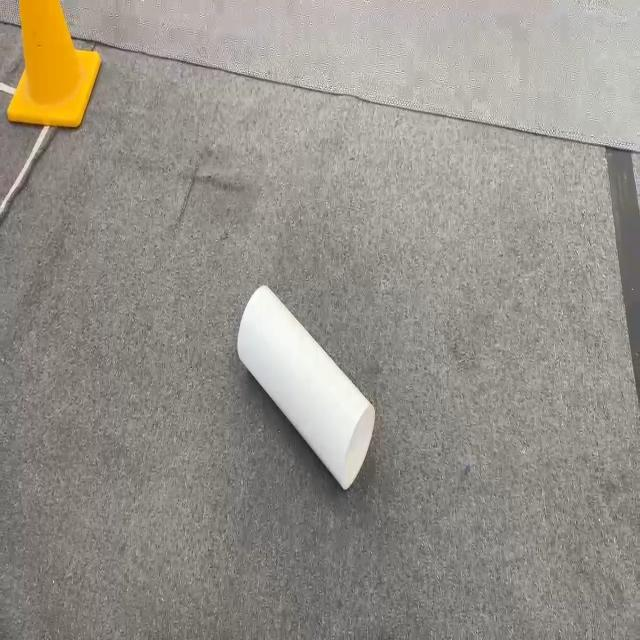coral: (236, 282, 376, 490)
